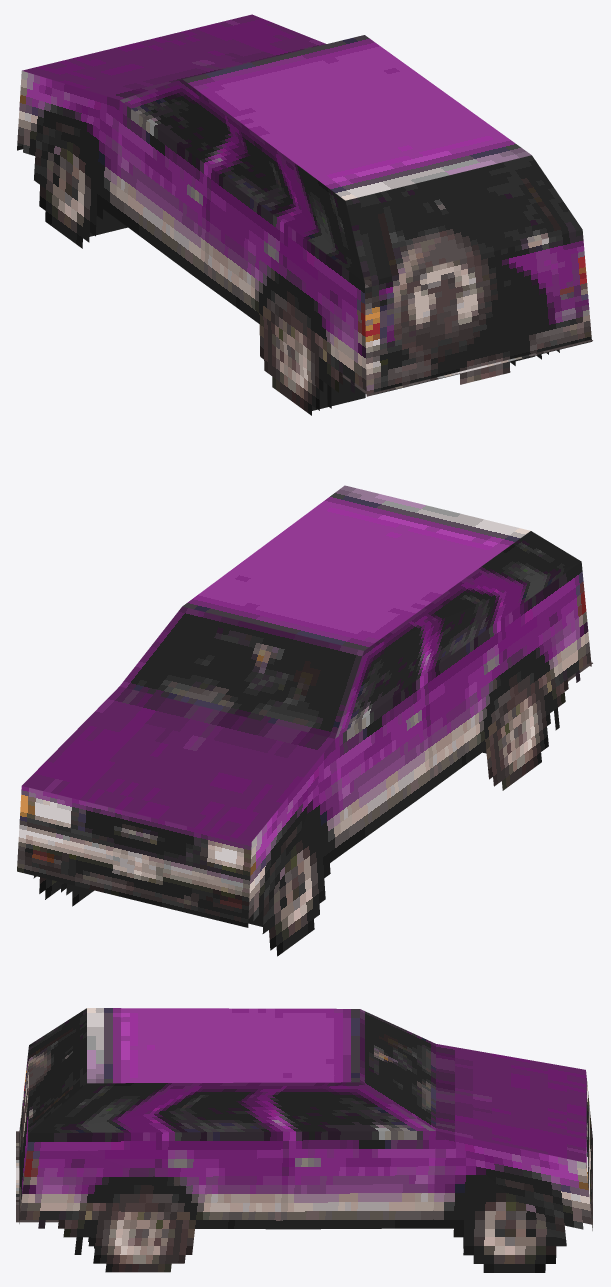
Rendered from car-rodeo-plt2.glb.
3 renders of one model, top to bottom at view 1: azimuth 30°, elevation 25°; view 2: azimuth 150°, elevation 25°; view 3: azimuth 270°, elevation 25°, orthographic. The views are drawn at different scales.
Visible parts, largest first — view 1: car-rodeo-plt2; view 2: car-rodeo-plt2; view 3: car-rodeo-plt2.
Part boxes in pixels (left/top/right/bottom): car-rodeo-plt2: left=17, top=14, right=592, bottom=415; car-rodeo-plt2: left=17, top=485, right=592, bottom=956; car-rodeo-plt2: left=16, top=1008, right=592, bottom=1272.
Bounding box in the file's own units: 1.73 × 1.55 × 4.55.
Materials: 13 (13 with a texture image).
